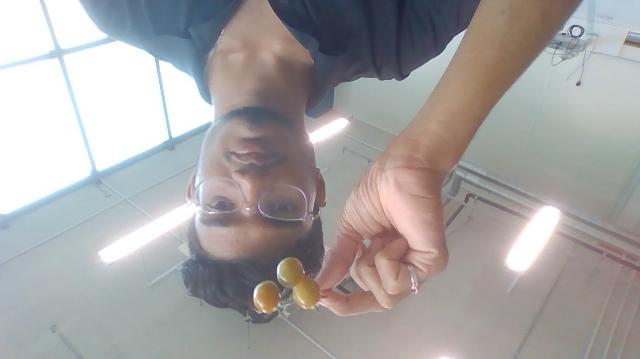Fully Grown: (292, 276, 322, 310), (253, 280, 282, 315), (276, 256, 305, 288)
